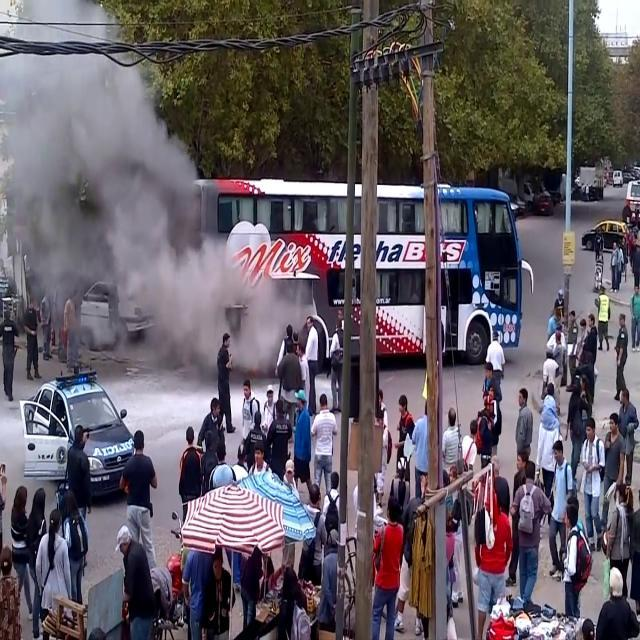Smoke: (0, 12, 228, 368), (228, 264, 284, 383)
